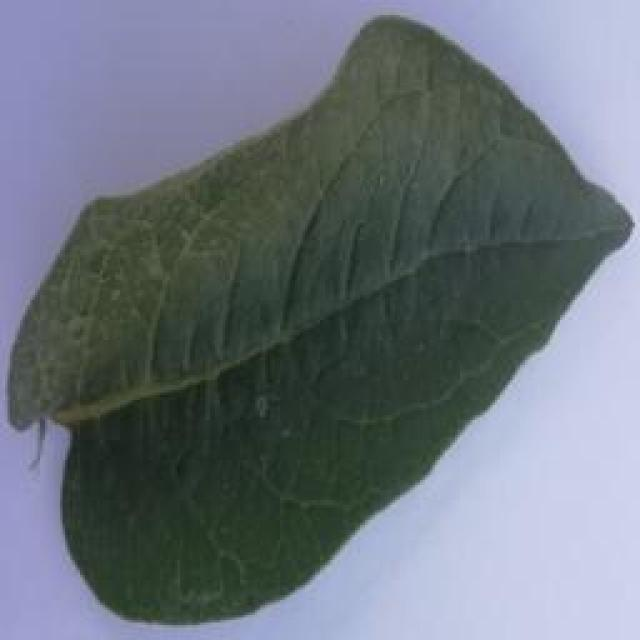Potato_Healthy: (12, 11, 624, 628)
